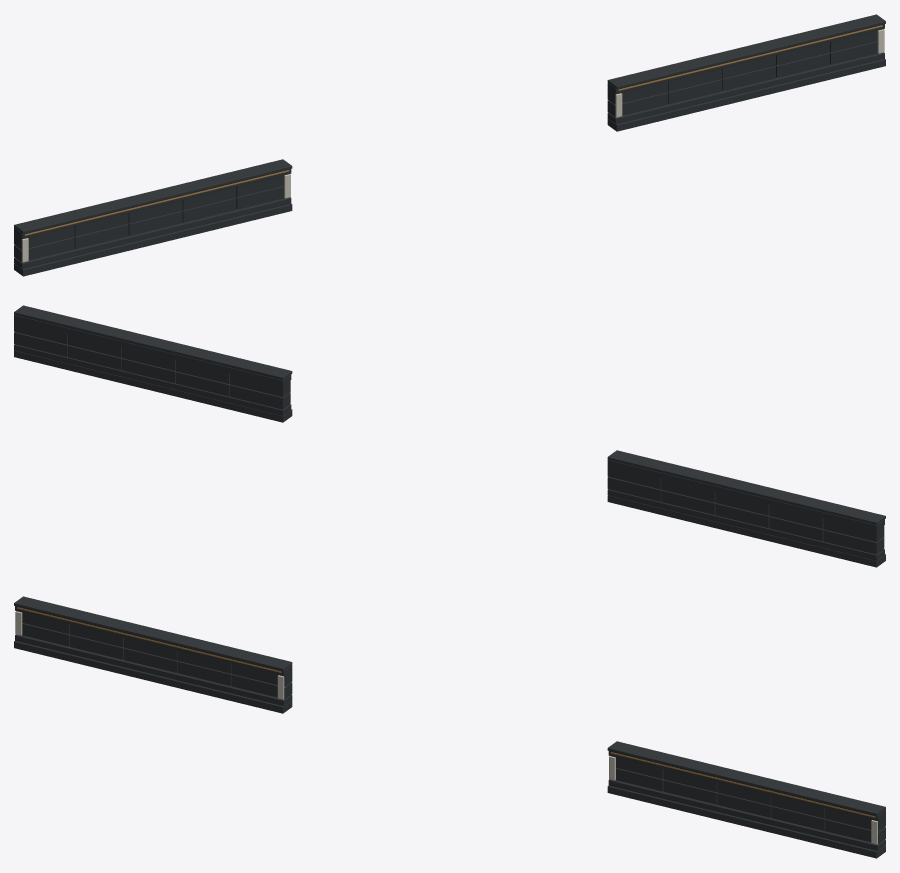
The model's file is SM_Aurelion_KIT_Z09SplitPlinth.fbx.
3 views of the same model, one above another, from view 1: azimuth 30°, elevation 25°; view 2: azimuth 150°, elevation 25°; view 3: azimuth 330°, elevation 25° (orthographic).
Visible parts, largest first — view 1: SM_Aurelion_KIT_Z09SplitPlinth; view 2: SM_Aurelion_KIT_Z09SplitPlinth; view 3: SM_Aurelion_KIT_Z09SplitPlinth.
Boxes of the visible parts, bbox=[...] form: SM_Aurelion_KIT_Z09SplitPlinth: bbox=[14, 14, 885, 276]; SM_Aurelion_KIT_Z09SplitPlinth: bbox=[14, 305, 885, 567]; SM_Aurelion_KIT_Z09SplitPlinth: bbox=[14, 596, 885, 858].
Size of the model in its own units: 1599 by 30 by 80.
